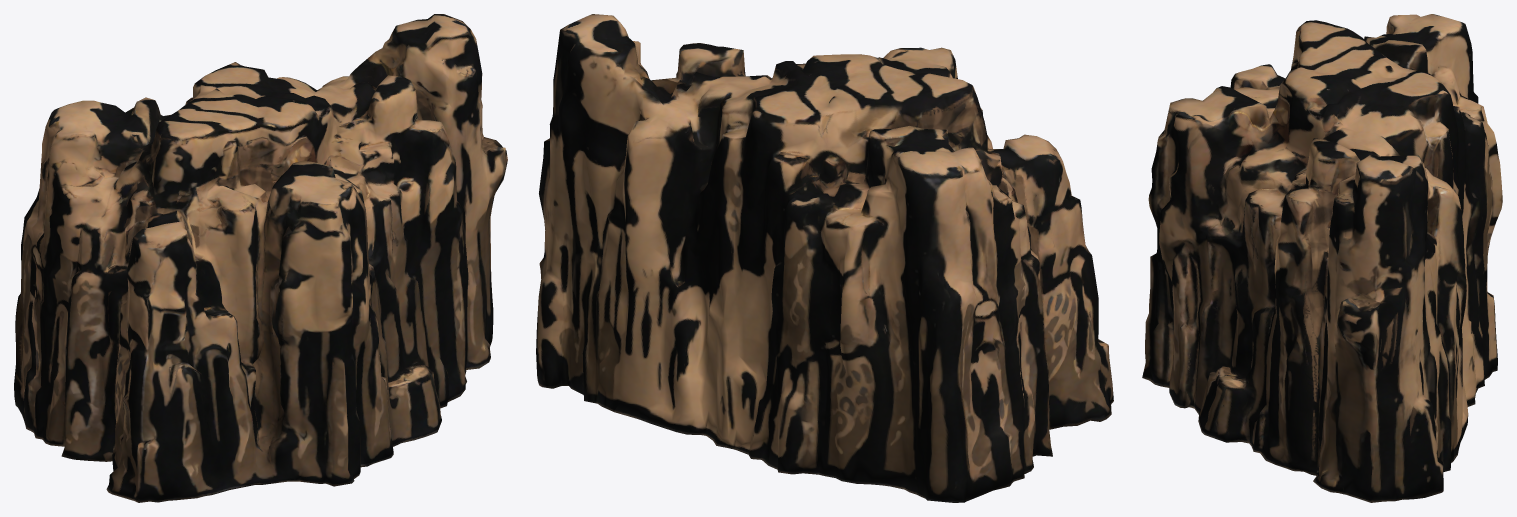
Rendered from RocckWall_1.fbx.
3 renders of one model, left to right at view 1: azimuth 30°, elevation 25°; view 2: azimuth 150°, elevation 25°; view 3: azimuth 270°, elevation 25°, orthographic. The views are drawn at different scales.
Visible parts, largest first — view 1: Mesh1; view 2: Mesh1; view 3: Mesh1.
Part boxes in pixels (x1,y1,x2,y2): Mesh1: [14, 14, 507, 502]; Mesh1: [536, 14, 1113, 502]; Mesh1: [1142, 14, 1502, 502].
Bounding box in the file's own units: 200 × 134 × 137.
1 material, 1 textured.
